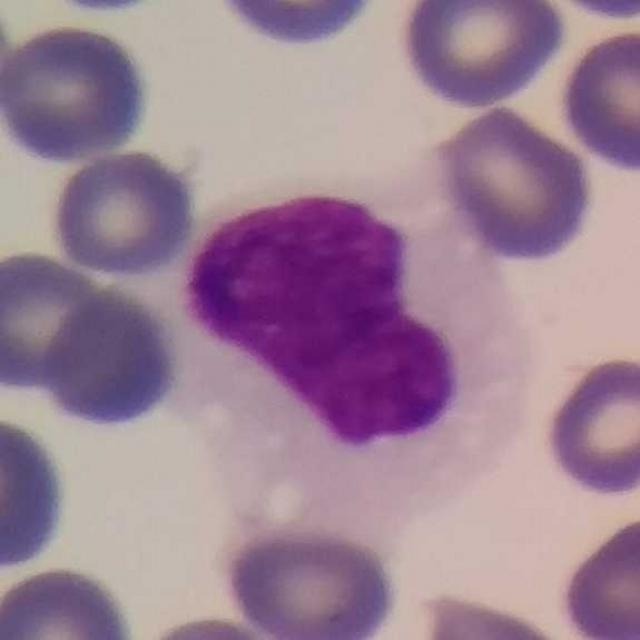Monocyte: (162, 158, 536, 539)
RBC: (428, 101, 599, 266), (215, 520, 405, 640), (0, 20, 155, 166), (36, 284, 184, 435), (44, 146, 202, 280), (393, 0, 571, 111), (0, 243, 120, 399), (535, 348, 640, 503), (554, 24, 640, 176), (0, 410, 75, 578), (553, 507, 640, 640), (0, 561, 141, 640), (407, 587, 588, 640), (228, 0, 379, 63), (126, 611, 300, 640), (39, 0, 176, 21), (541, 0, 639, 24), (552, 0, 640, 24)
